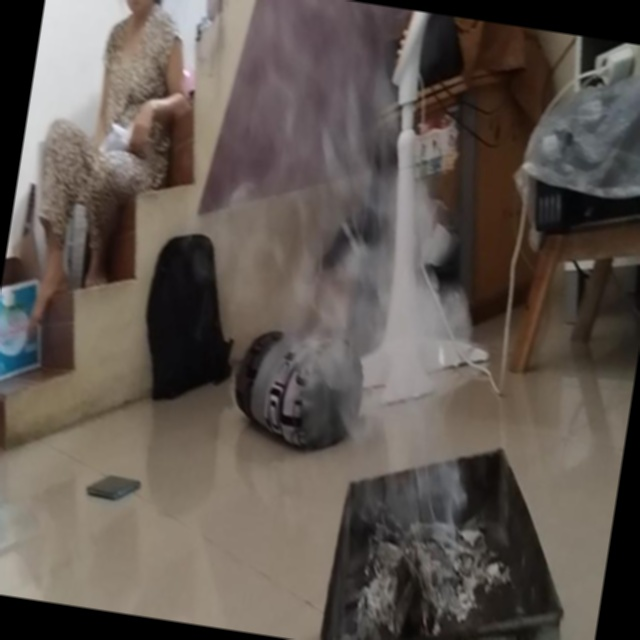smoke: (222, 48, 453, 318), (324, 351, 506, 631)
